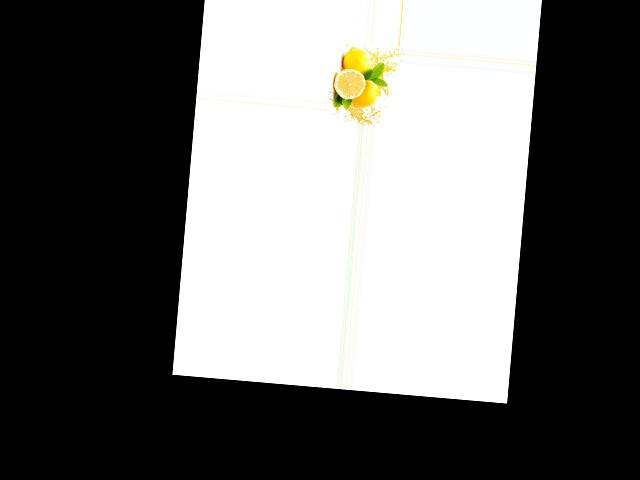lemon: (340, 48, 375, 80)
